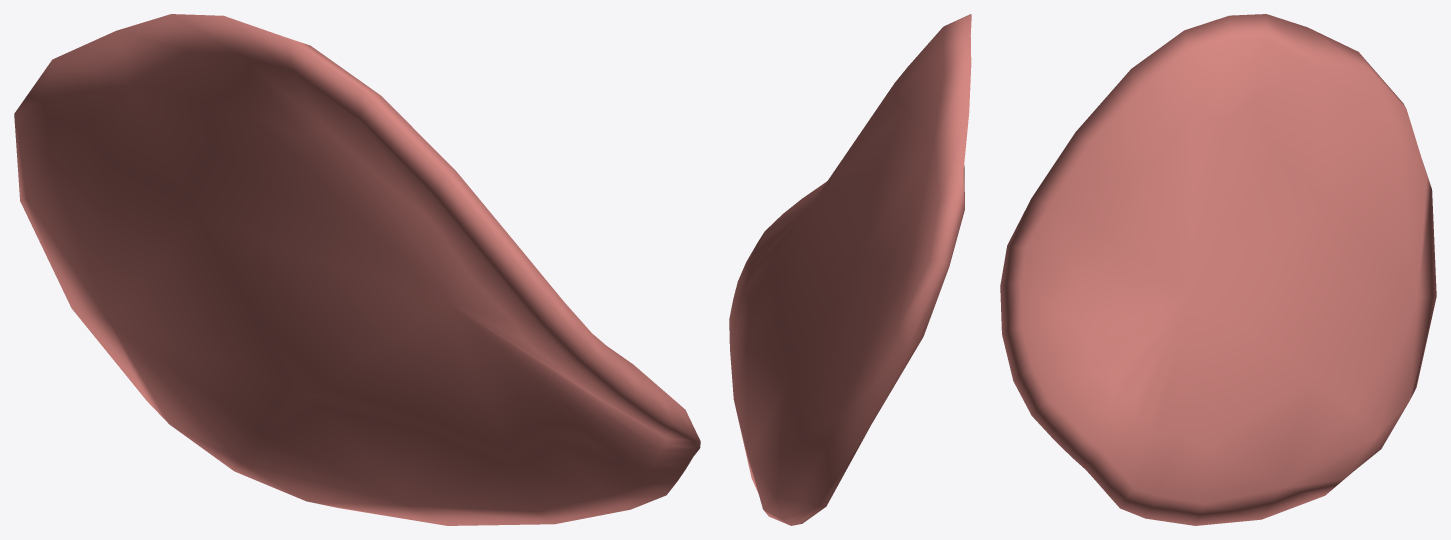
3 views of the same model, side by side, from view 1: azimuth 30°, elevation 25°; view 2: azimuth 150°, elevation 25°; view 3: azimuth 270°, elevation 25° (orthographic). The views are drawn at different scales.
Visible parts, largest first — view 1: ZA_197e3401860aaea2; view 2: ZA_197e3401860aaea2; view 3: ZA_197e3401860aaea2.
Part boxes in pixels (<box>): ZA_197e3401860aaea2: <box>14,14,700,525</box>; ZA_197e3401860aaea2: <box>729,14,971,525</box>; ZA_197e3401860aaea2: <box>1000,14,1436,525</box>.
Bounding box in the file's own units: 0.00493 × 0.006 × 0.00568.
